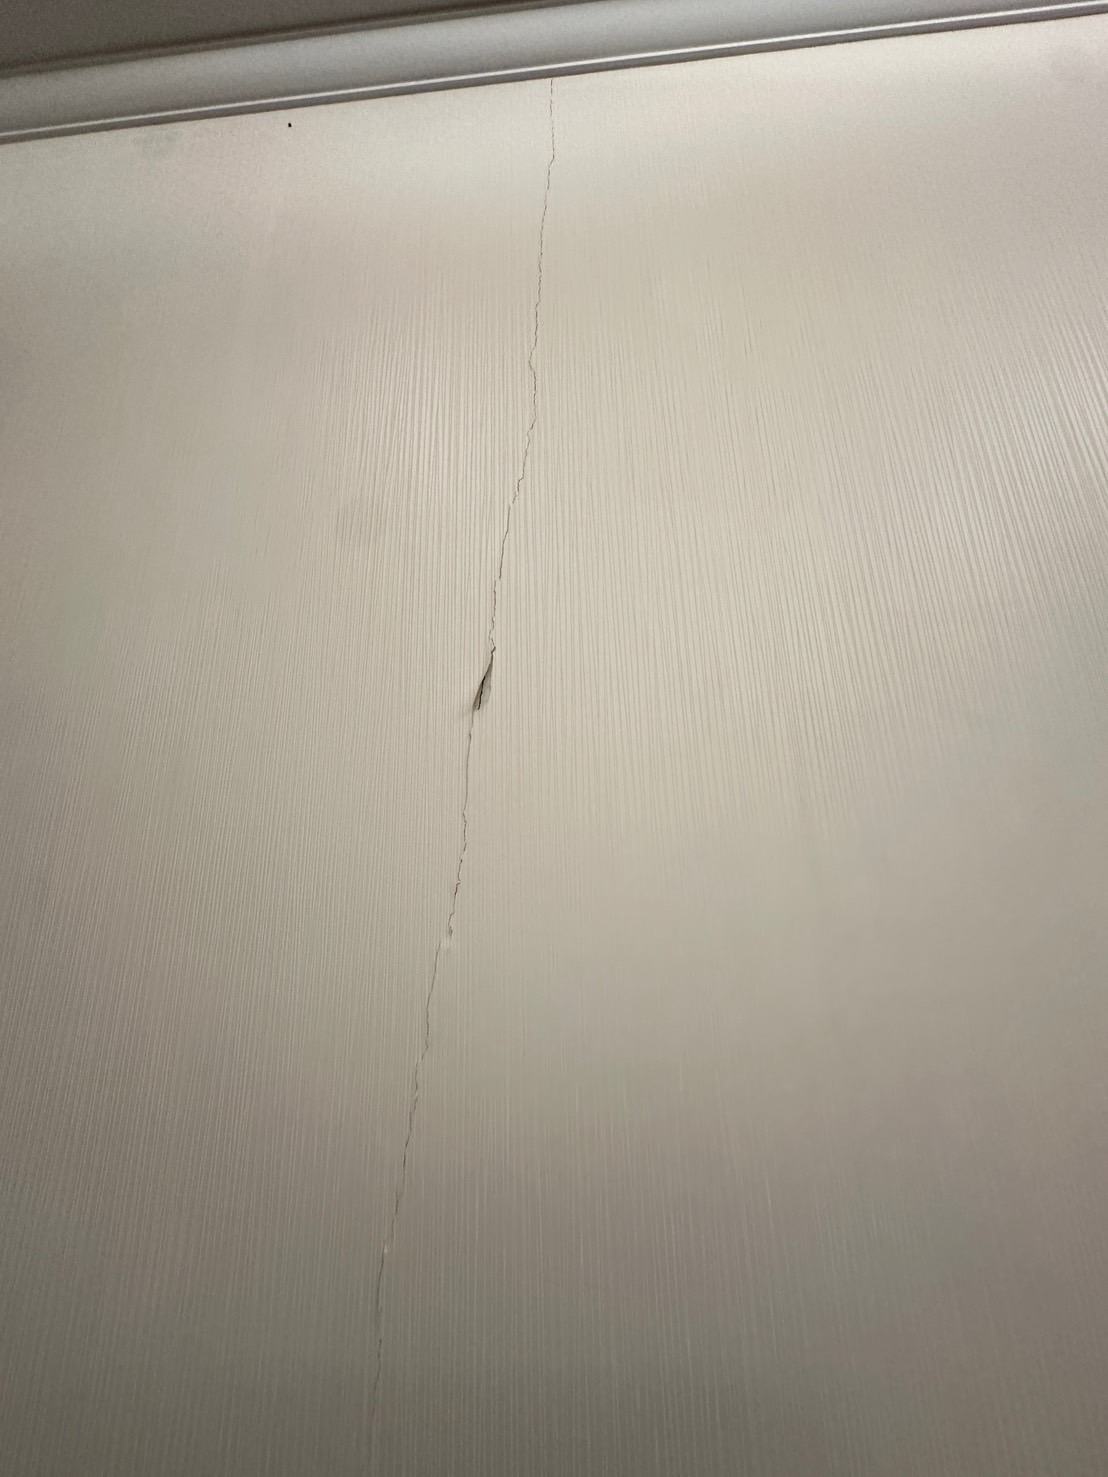Low: (355, 72, 606, 1468)
